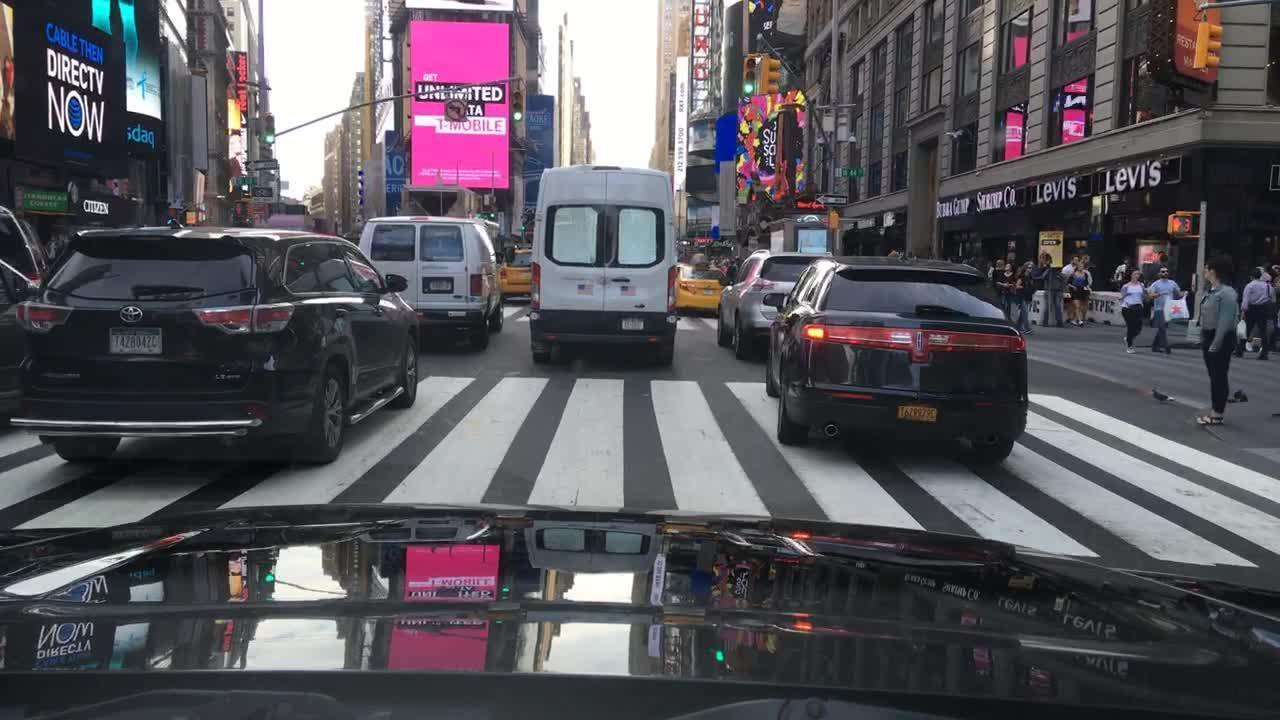Toyota: (114, 303, 147, 328)
lincoln: (912, 329, 926, 356)
